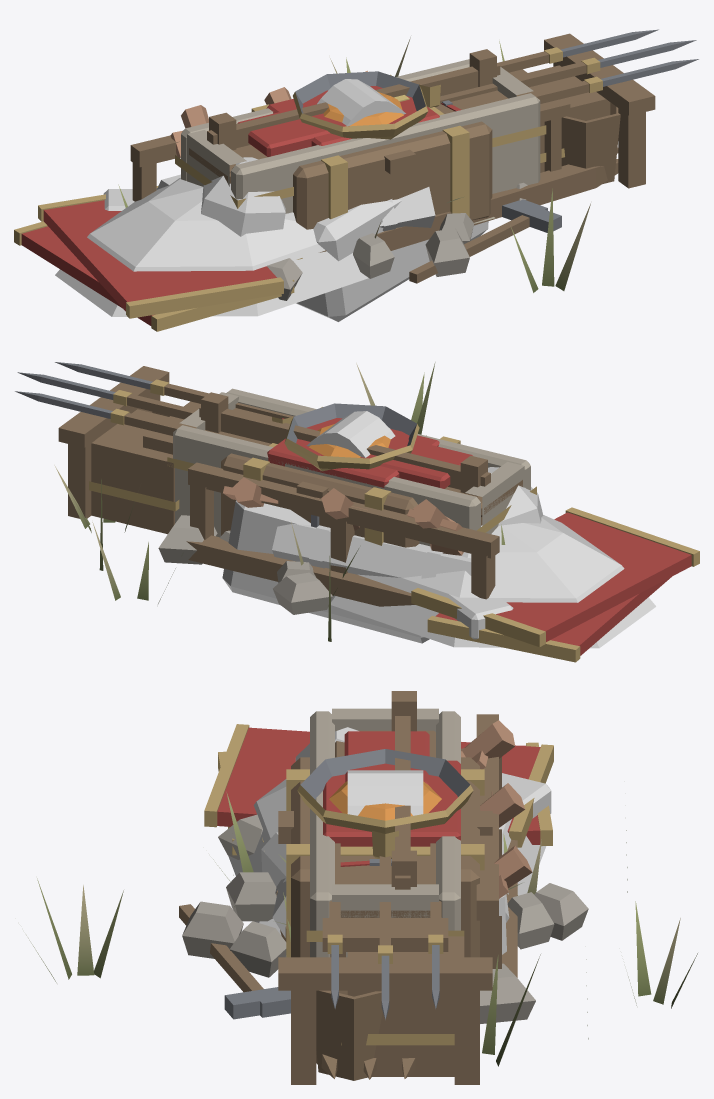
Rendered from m2w1_clutter.glb.
3 views of the same model, one above another, from view 1: azimuth 30°, elevation 25°; view 2: azimuth 150°, elevation 25°; view 3: azimuth 270°, elevation 25° (orthographic). The views are drawn at different scales.
Visible parts, largest first — view 1: arms, stakes_lying, supply_crate, trough, rubble, bedrolls, stores, helmet_rack, brazier_bowl, bench, cippus, campfire (+1 smaller); view 2: arms, stores, stakes_lying, trough, rubble, supply_crate, bedrolls, helmet_rack, brazier_bowl, bench, grass_clump, cippus (+1 smaller); view 3: arms, trough, stores, supply_crate, rubble, bedrolls, brazier_bowl, campfire, grass_clump, bench, stakes_lying, helmet_rack (+1 smaller).
Boxes of the visible parts, x1,y1,x2,y2 form: arms: (14,29,698,331); stakes_lying: (55,148,618,316); supply_crate: (201,74,492,236); trough: (175,59,620,213); rubble: (103,182,527,321); bedrolls: (157,69,570,283); stores: (130,65,610,201); helmet_rack: (207,49,500,150); brazier_bowl: (293,71,428,139); bench: (189,84,521,183); cippus: (317,79,405,126); campfire: (353,213,474,278); arms: (15,362,699,662); stores: (89,409,499,606); stakes_lying: (331,515,655,648); trough: (138,388,536,546); rubble: (158,500,513,643); supply_crate: (221,407,543,547); bedrolls: (143,401,471,578); helmet_rack: (199,392,490,525); brazier_bowl: (284,403,419,471); bench: (191,408,522,516); grass_clump: (54,362,505,641); cippus: (306,411,395,457); arms: (204,724,553,1084); trough: (306,708,464,1080); stores: (341,714,532,1076); supply_crate: (286,727,484,957); rubble: (182,773,588,1023); bedrolls: (179,878,509,1019); brazier_bowl: (297,749,473,833); campfire: (226,872,554,977); grass_clump: (26,792,697,1066); bench: (335,730,435,917); stakes_lying: (228,779,546,1079); helmet_rack: (340,691,416,889).
Bounding box in the file's own units: 2.89 × 0.8201 × 2.18.
